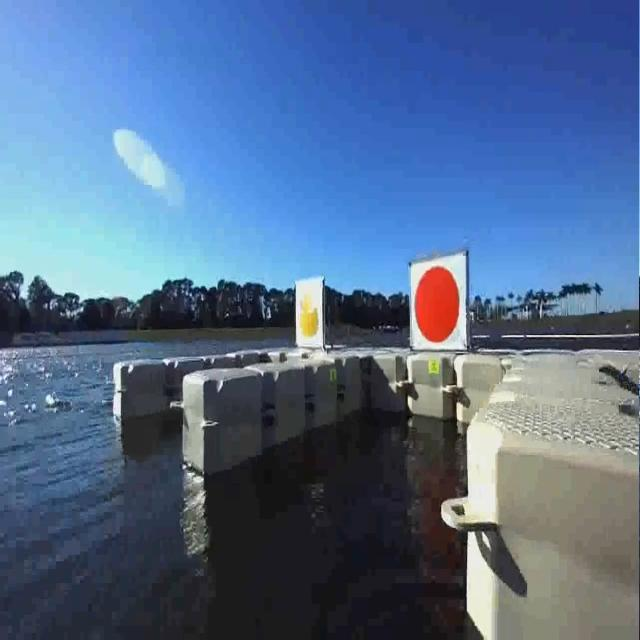red-dot: (411, 255, 467, 352)
yellow-duck: (295, 282, 321, 348)
